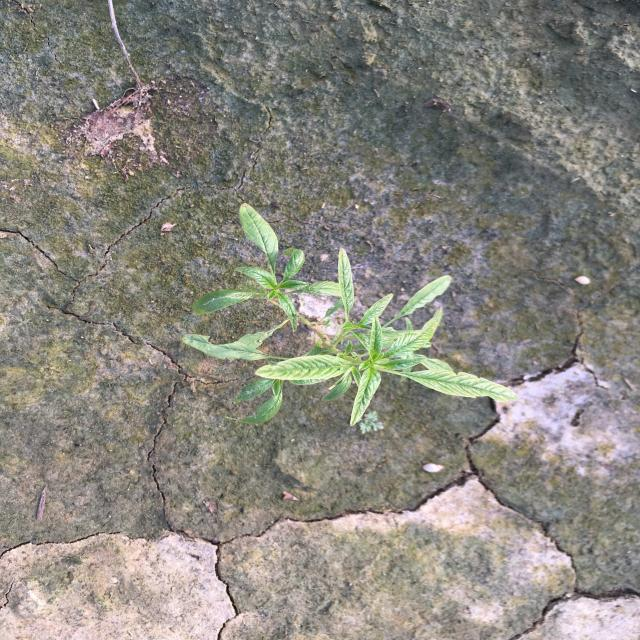Waterhemp: (180, 202, 522, 426)
